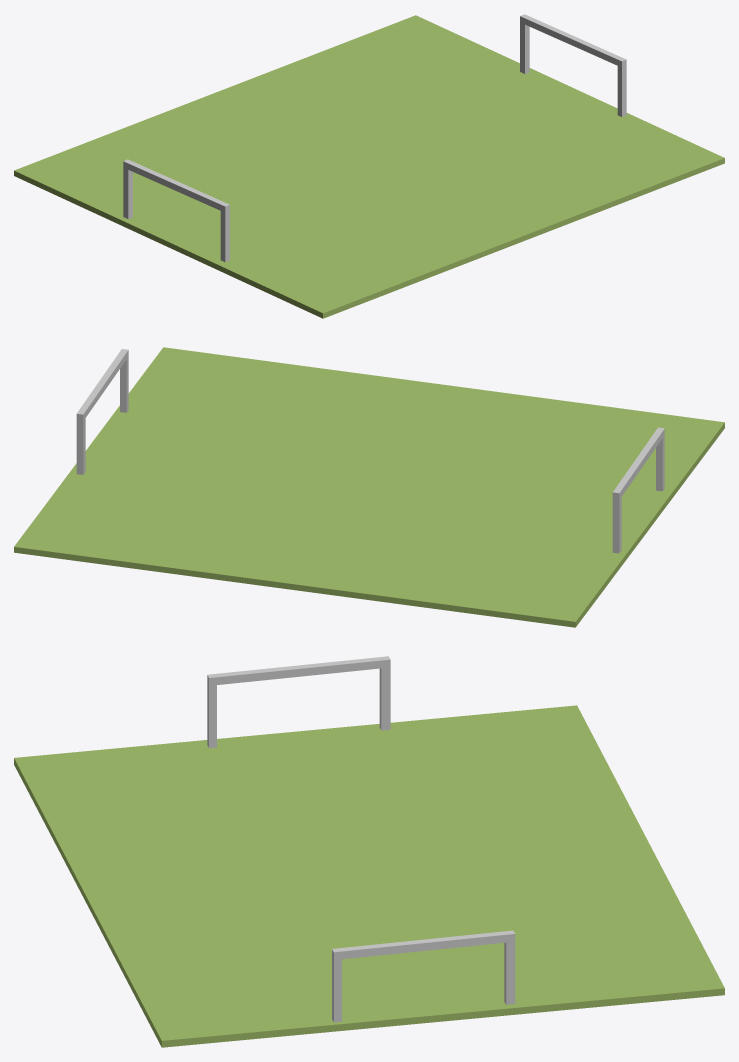
Rendered from lapangan.fbx.
The picture shows the model from 3 angles, top to bottom: view 1: azimuth 30°, elevation 25°; view 2: azimuth 150°, elevation 25°; view 3: azimuth 270°, elevation 25°; orthographic projection. The views are drawn at different scales.
Visible parts, largest first — view 1: Plane.039, Cube.145, Cube.146; view 2: Plane.039, Cube.146, Cube.145; view 3: Plane.039, Cube.146, Cube.145.
Part boxes in pixels (bbox=[...]): Plane.039: bbox=[14, 15, 724, 318]; Cube.145: bbox=[123, 159, 229, 262]; Cube.146: bbox=[520, 14, 626, 116]; Plane.039: bbox=[14, 347, 724, 627]; Cube.146: bbox=[76, 349, 128, 474]; Cube.145: bbox=[612, 427, 664, 553]; Plane.039: bbox=[14, 705, 724, 1047]; Cube.146: bbox=[332, 930, 515, 1022]; Cube.145: bbox=[207, 656, 390, 748].
Size of the model in its own units: 3966 by 434 by 3551.
